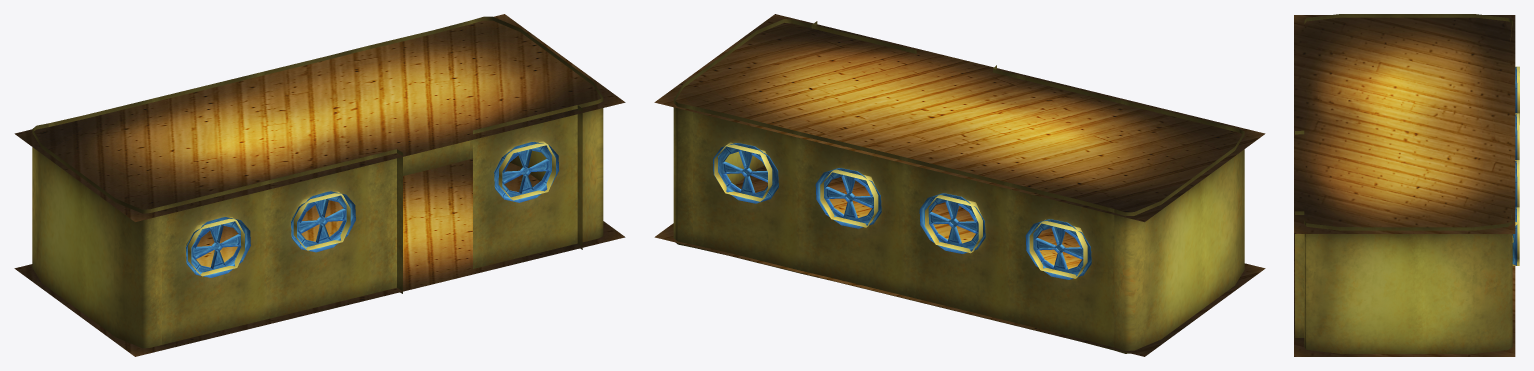
File: CasaInteriorLong.fbx
3 renders of one model, left to right at view 1: azimuth 30°, elevation 25°; view 2: azimuth 150°, elevation 25°; view 3: azimuth 270°, elevation 25°, orthographic. The views are drawn at different scales.
Parts seen in each view (by area): view 1: polySurface11, polySurface17, polySurface10, polySurface9, polySurface16, polySurface19, polySurface2, polySurface5, polySurface20, polySurface6, polySurface14; view 2: polySurface10, polySurface11, polySurface9, polySurface14, polySurface18, polySurface12, polySurface17, polySurface16, polySurface19; view 3: polySurface11, polySurface10, polySurface14, polySurface9, polySurface2, polySurface18.
Boxes of the visible parts, x1,y1,x2,y2 form: polySurface11: [14, 14, 625, 222]; polySurface17: [142, 149, 402, 348]; polySurface10: [32, 16, 498, 348]; polySurface9: [14, 158, 625, 356]; polySurface16: [162, 181, 266, 344]; polySurface19: [473, 105, 577, 268]; polySurface2: [577, 98, 603, 249]; polySurface5: [291, 191, 355, 252]; polySurface20: [494, 142, 559, 202]; polySurface6: [185, 217, 250, 277]; polySurface14: [470, 16, 602, 181]; polySurface10: [673, 100, 1244, 353]; polySurface11: [654, 14, 1265, 222]; polySurface9: [654, 166, 1265, 356]; polySurface14: [674, 19, 784, 247]; polySurface18: [713, 143, 778, 203]; polySurface12: [815, 168, 881, 228]; polySurface17: [993, 65, 1244, 134]; polySurface16: [1122, 100, 1227, 129]; polySurface19: [811, 24, 916, 53]; polySurface11: [1294, 15, 1515, 233]; polySurface10: [1306, 14, 1519, 353]; polySurface14: [1306, 216, 1512, 353]; polySurface9: [1294, 234, 1515, 356]; polySurface2: [1295, 211, 1306, 349]; polySurface18: [1512, 206, 1517, 265].
Bounding box in the file's own units: 5.03 × 1.39 × 2.19.
1 material, 1 textured.
